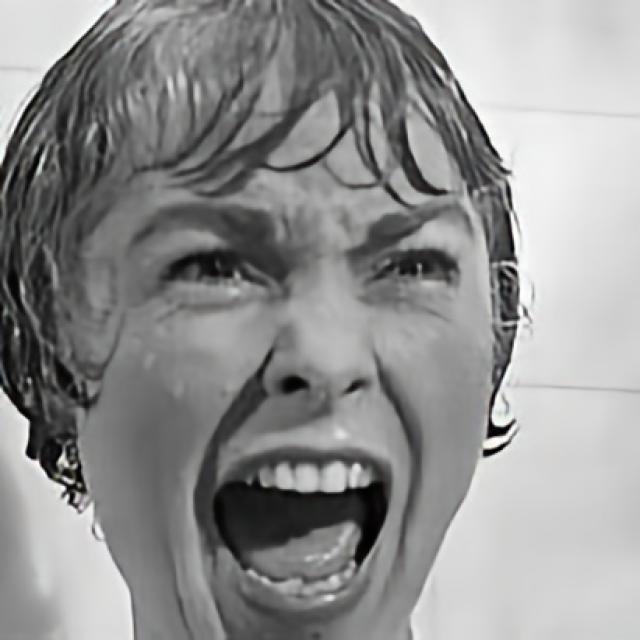fear: (81, 53, 497, 640)
